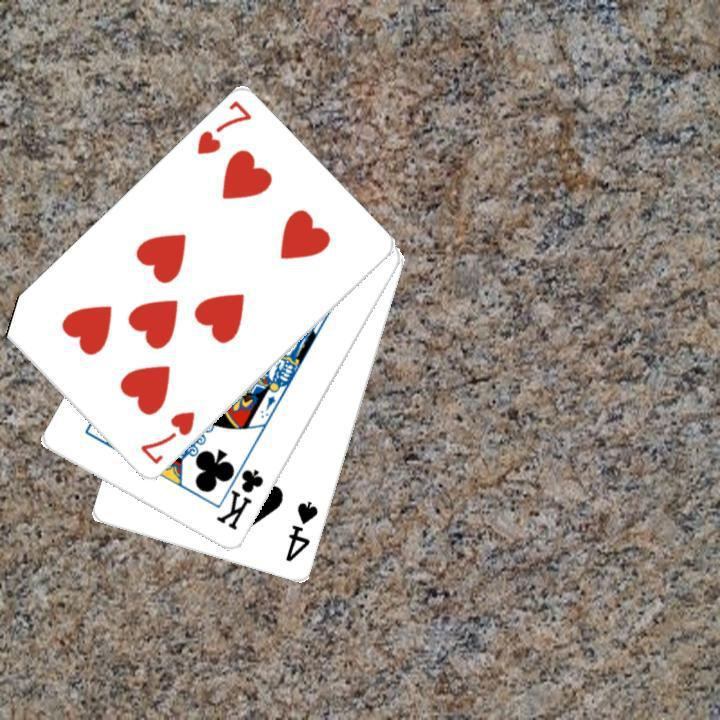4: (281, 497, 321, 564)
7: (192, 96, 254, 158), (135, 407, 197, 467)
K: (211, 452, 266, 533)
